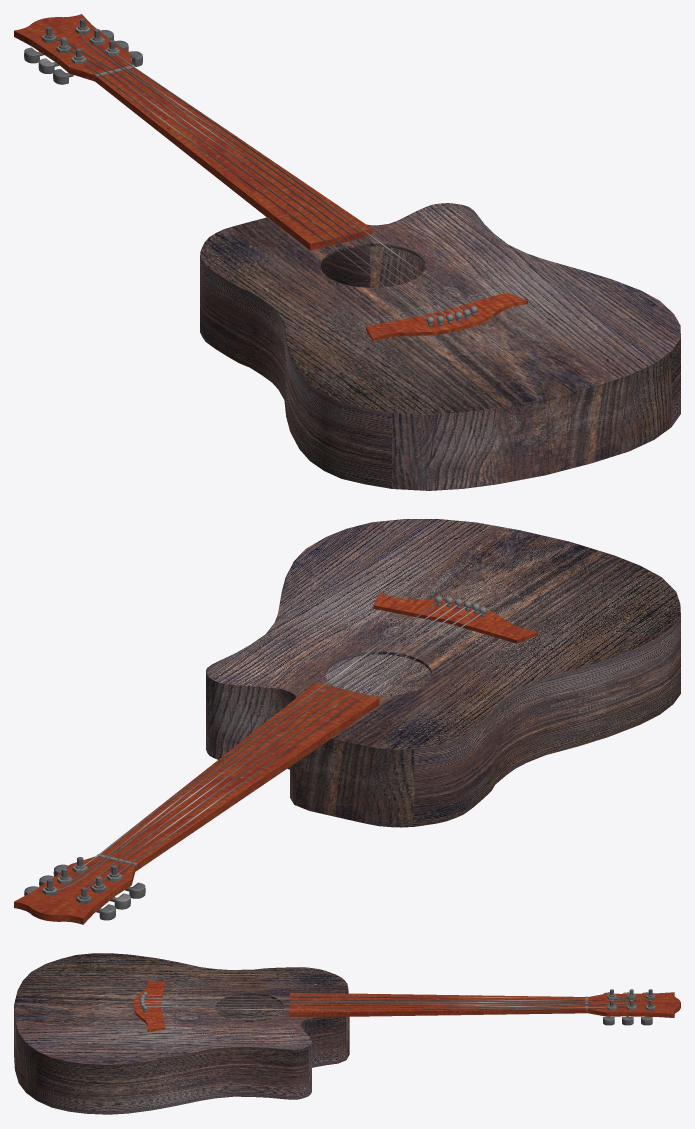
Rendered from GuitarraC.obj.
3 renders of one model, top to bottom at view 1: azimuth 30°, elevation 25°; view 2: azimuth 150°, elevation 25°; view 3: azimuth 270°, elevation 25°, orthographic. The views are drawn at different scales.
Parts seen in each view (by area): view 1: guitar_base, guitar_handle, guitar_strings, guitar_cable_fixing_base, guitar_adjust_strings, guitar_freeze_strings; view 2: guitar_base, guitar_handle, guitar_strings, guitar_cable_fixing_base, guitar_freeze_strings, guitar_adjust_strings; view 3: guitar_base, guitar_handle, guitar_strings, guitar_cable_fixing_base, guitar_freeze_strings, guitar_adjust_strings.
Boxes of the visible parts, x1,y1,x2,y2 form: guitar_base: [200, 203, 680, 490]; guitar_handle: [14, 14, 372, 250]; guitar_strings: [55, 32, 469, 319]; guitar_cable_fixing_base: [366, 292, 527, 341]; guitar_adjust_strings: [24, 30, 142, 84]; guitar_freeze_strings: [41, 18, 120, 63]; guitar_base: [206, 519, 680, 827]; guitar_handle: [14, 682, 379, 924]; guitar_strings: [58, 602, 481, 890]; guitar_cable_fixing_base: [373, 593, 538, 643]; guitar_freeze_strings: [42, 857, 122, 903]; guitar_adjust_strings: [24, 864, 145, 920]; guitar_base: [14, 953, 349, 1114]; guitar_handle: [290, 992, 680, 1017]; guitar_strings: [144, 995, 647, 1009]; guitar_cable_fixing_base: [134, 980, 165, 1031]; guitar_freeze_strings: [607, 989, 655, 1010]; guitar_adjust_strings: [603, 992, 652, 1025].
Size of the model in its own units: 17.68 by 4.57 by 44.69.
5 materials, 3 textured.
